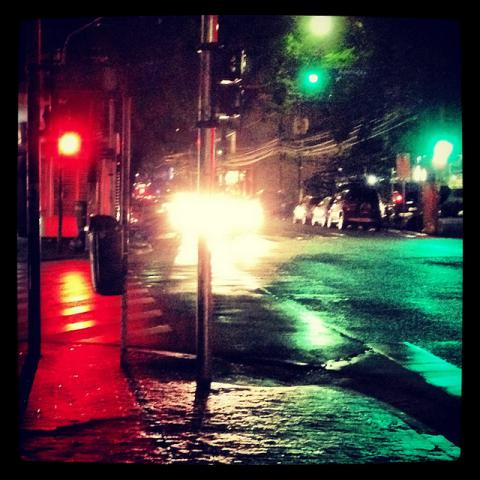car: (327, 188, 382, 232), (292, 195, 324, 226), (312, 195, 336, 226)
